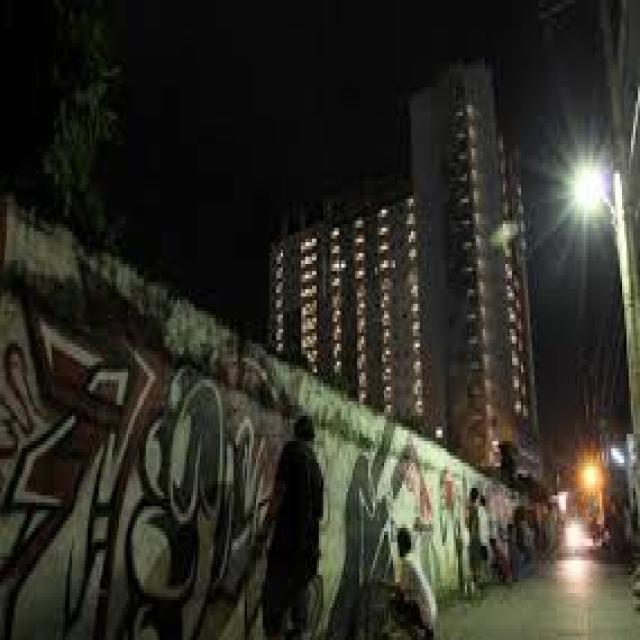-: (3, 265, 291, 640), (330, 417, 433, 640)
